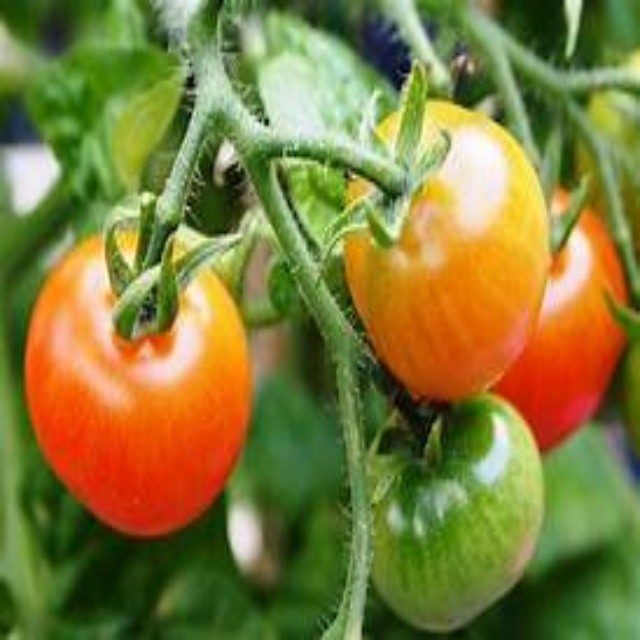tomato: (25, 235, 243, 529), (339, 102, 538, 396), (350, 400, 545, 626), (497, 181, 627, 451)
